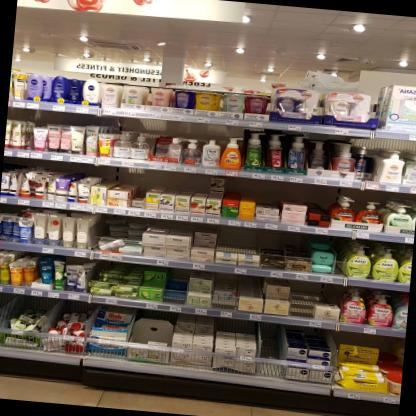empty_space: (290, 277, 318, 318), (217, 228, 257, 255), (260, 324, 279, 375), (134, 326, 170, 343)
